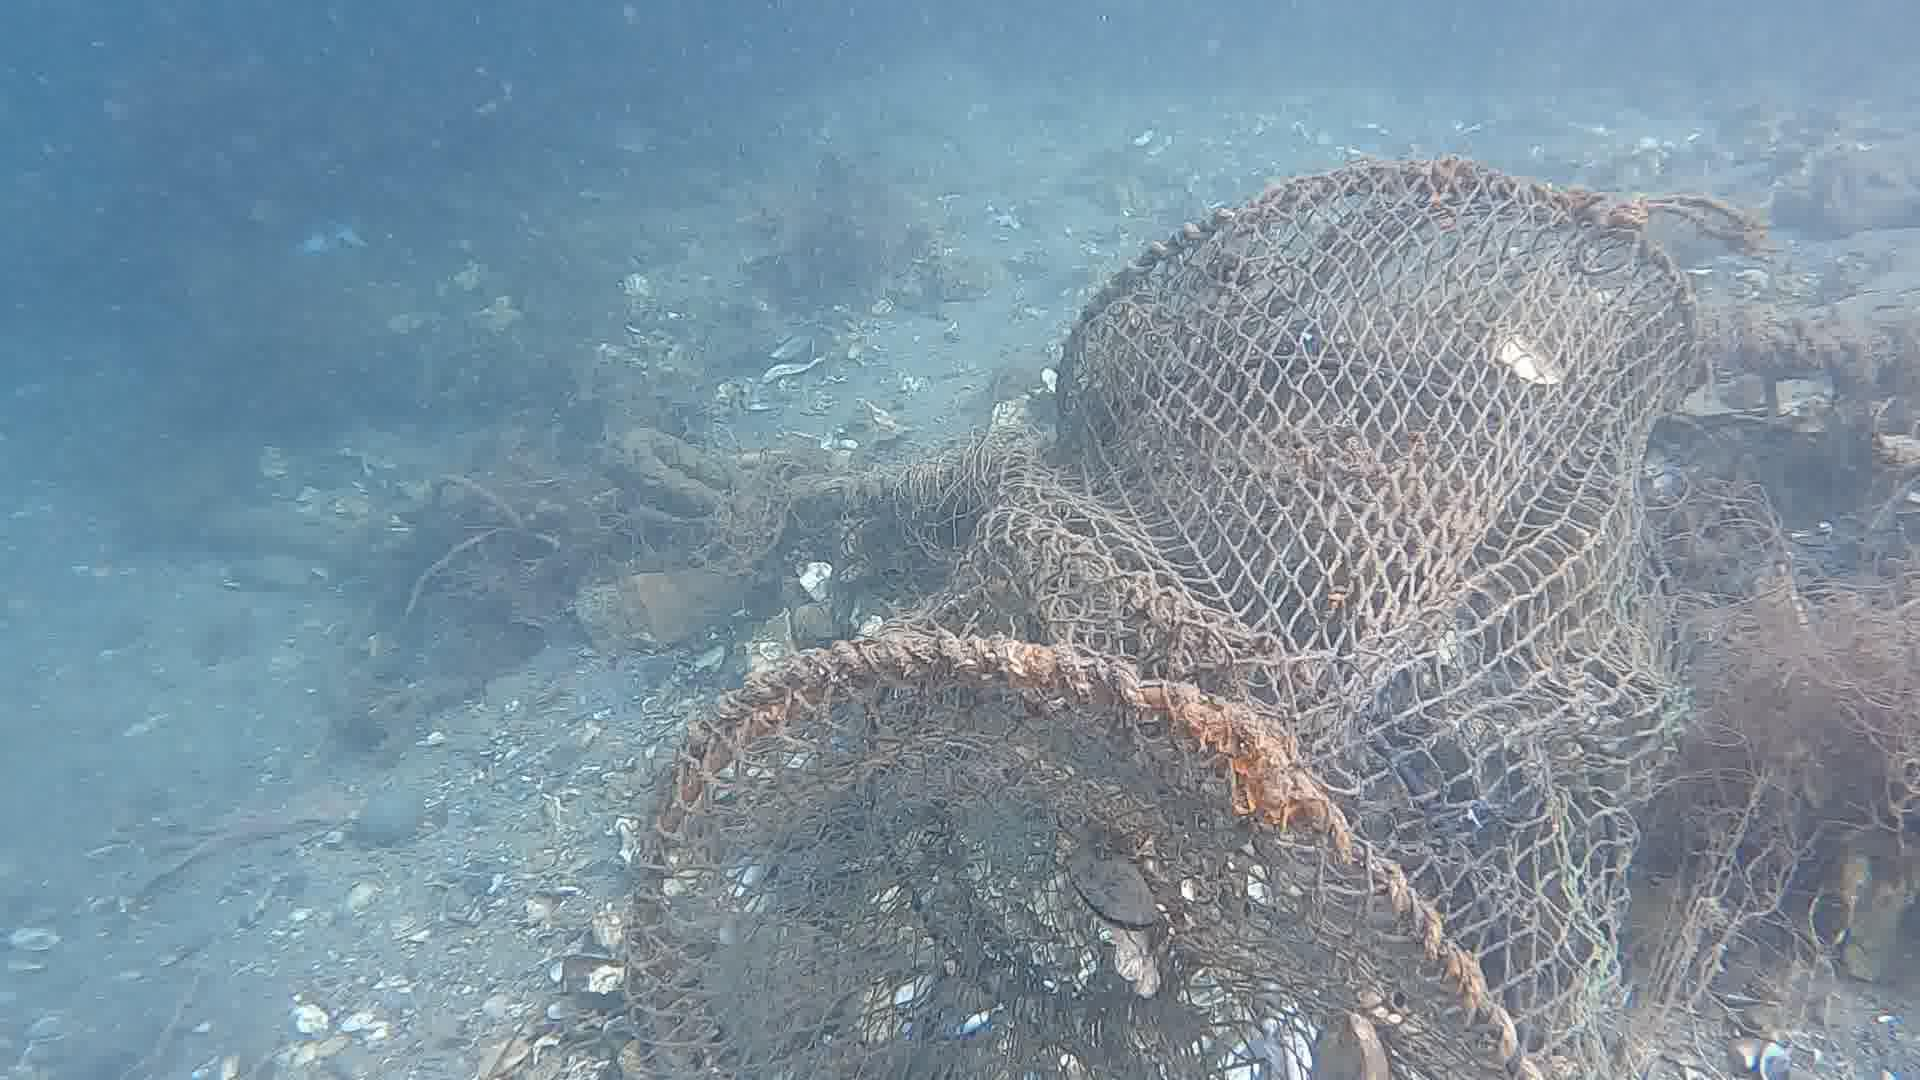rope: (622, 426, 897, 521)
spring fish trap: (622, 156, 1712, 1080)
